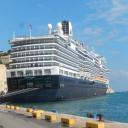cruises: (6, 21, 112, 105)
